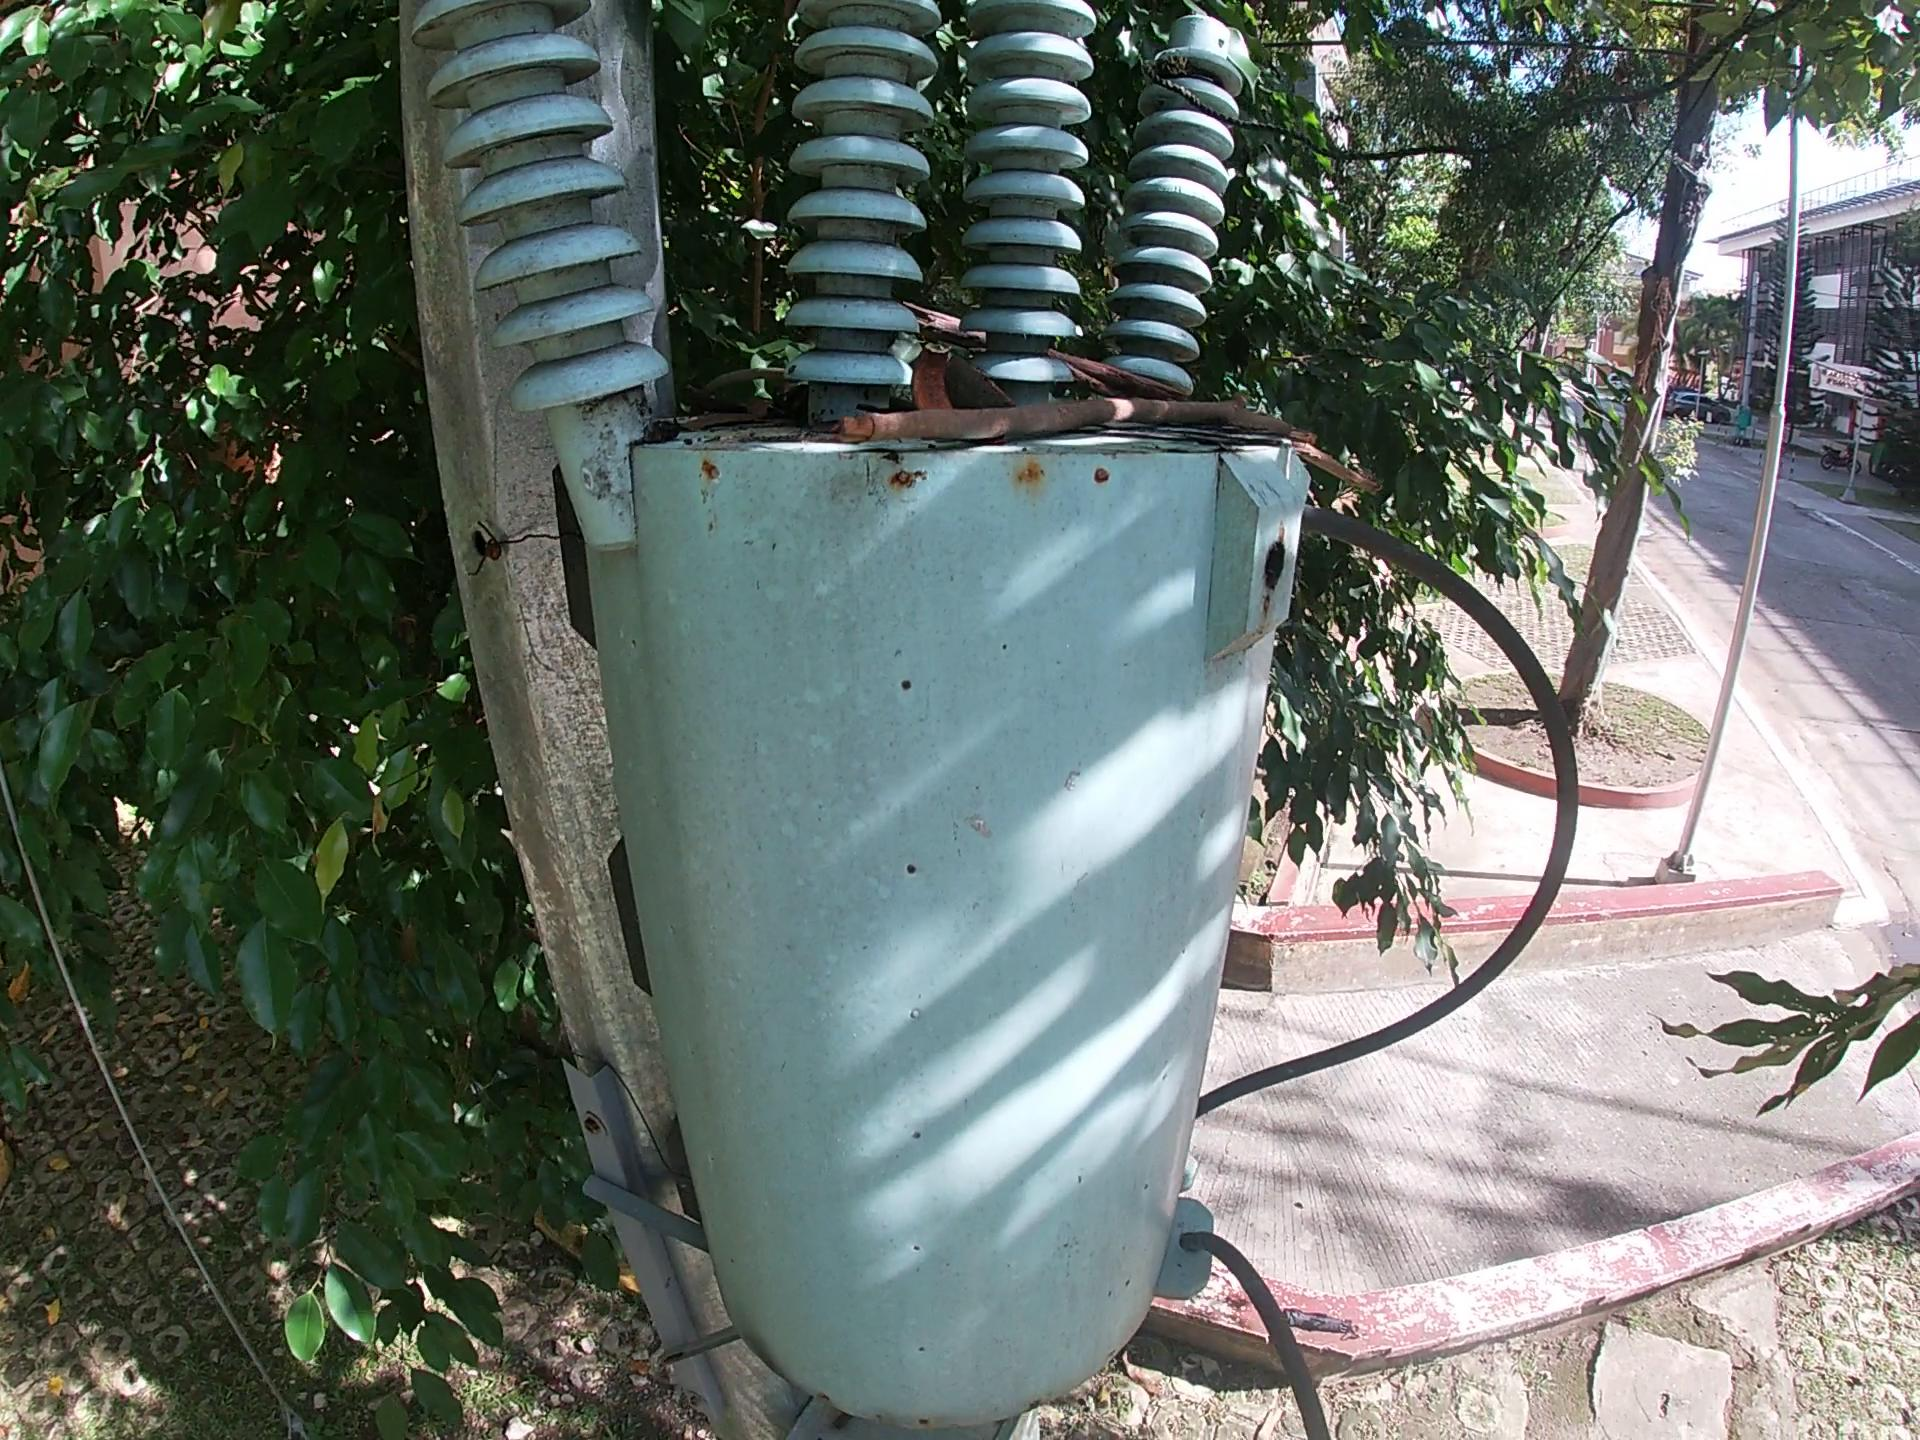leaf: (673, 408, 776, 436)
mahogany fruit: (943, 346, 1016, 416), (910, 346, 958, 414)
tree branch: (827, 399, 1383, 499), (903, 301, 1199, 401), (677, 365, 797, 419)
